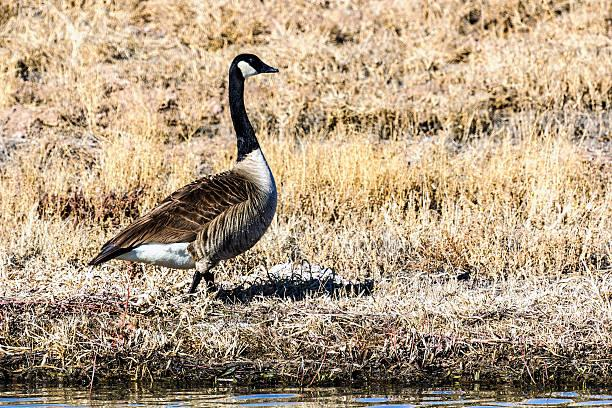Canadian-Goose: (89, 51, 287, 279)
